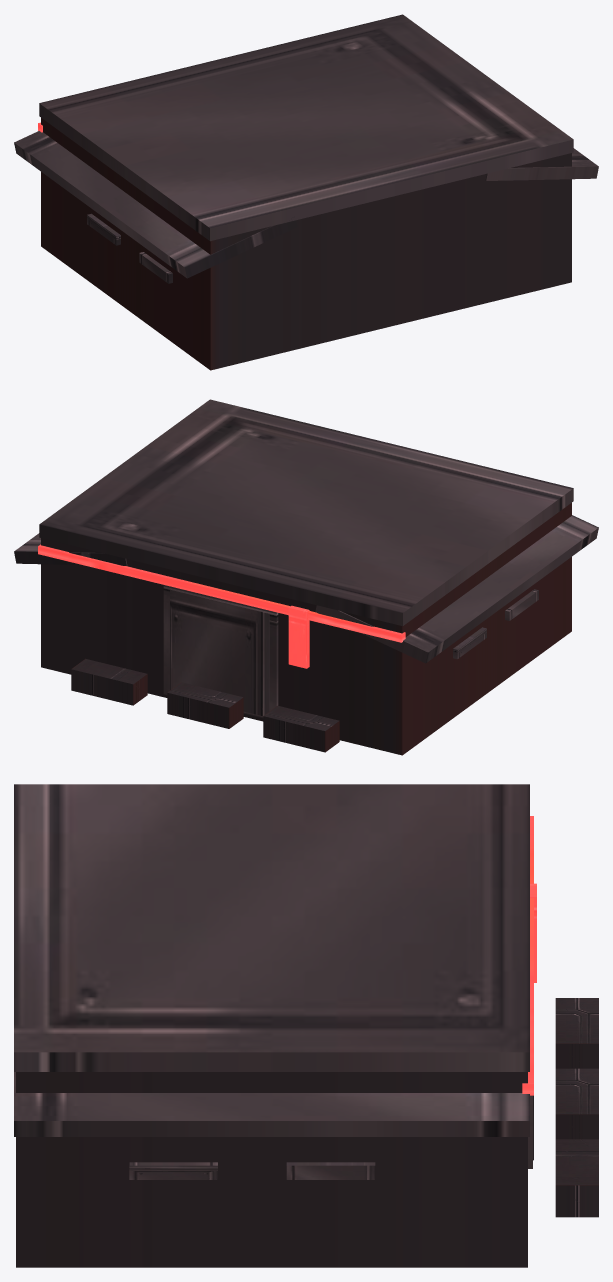
Rendered from crimson_bunker_garrison.glb.
The picture shows the model from 3 angles, top to bottom: view 1: azimuth 30°, elevation 25°; view 2: azimuth 150°, elevation 25°; view 3: azimuth 270°, elevation 25°; orthographic projection. The views are drawn at different scales.
Parts seen in each view (by area): view 1: CrimsonBunkerGarrison; view 2: CrimsonBunkerGarrison; view 3: CrimsonBunkerGarrison.
Boxes of the visible parts, x1,y1,x2,y2 form: CrimsonBunkerGarrison: (14, 14, 598, 370); CrimsonBunkerGarrison: (14, 399, 598, 755); CrimsonBunkerGarrison: (14, 784, 598, 1267).
Bounding box in the file's own units: 3.67 × 1.21 × 2.97.
4 materials, 4 textured.
